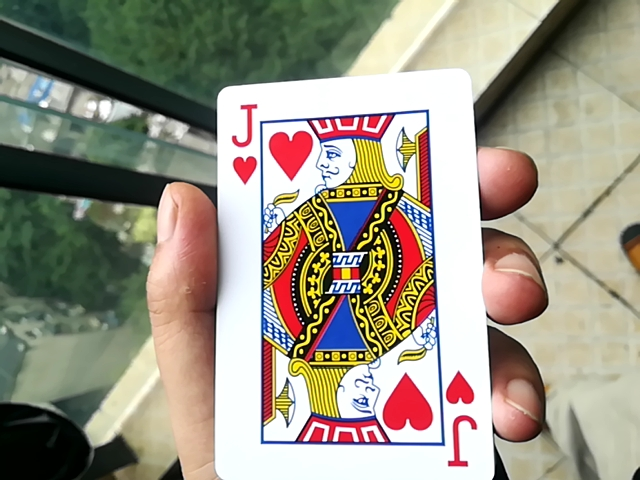hx j: (202, 60, 498, 477)
